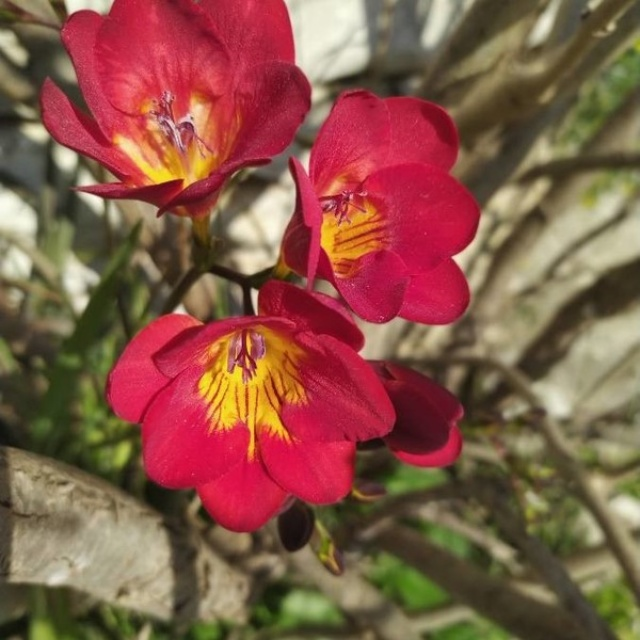obstacle: (65, 19, 515, 534)
